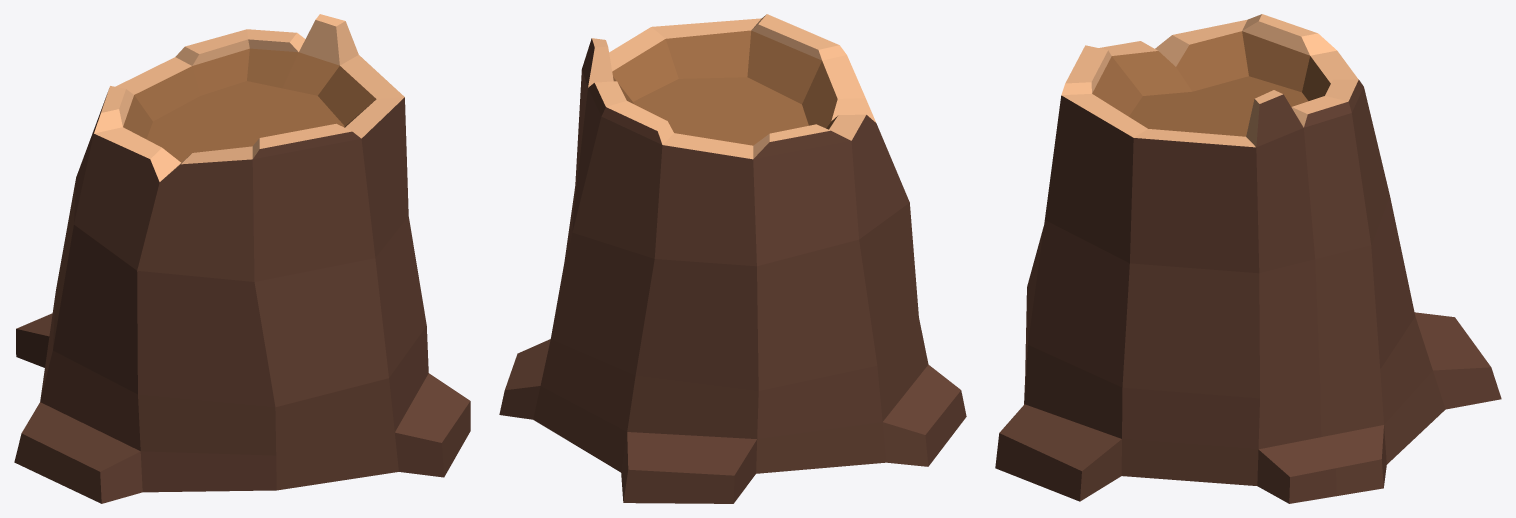
Rendered from Penek.fbx.
The picture shows the model from 3 angles, left to right: view 1: azimuth 30°, elevation 25°; view 2: azimuth 150°, elevation 25°; view 3: azimuth 270°, elevation 25°; orthographic projection. The views are drawn at different scales.
Visible parts, largest first — view 1: stump; view 2: stump; view 3: stump.
Boxes of the visible parts, <box> form: stump: <box>14,14,470,503</box>; stump: <box>499,14,966,503</box>; stump: <box>995,14,1501,503</box>.
Bounding box in the file's own units: 87.87 × 75.69 × 91.33.
